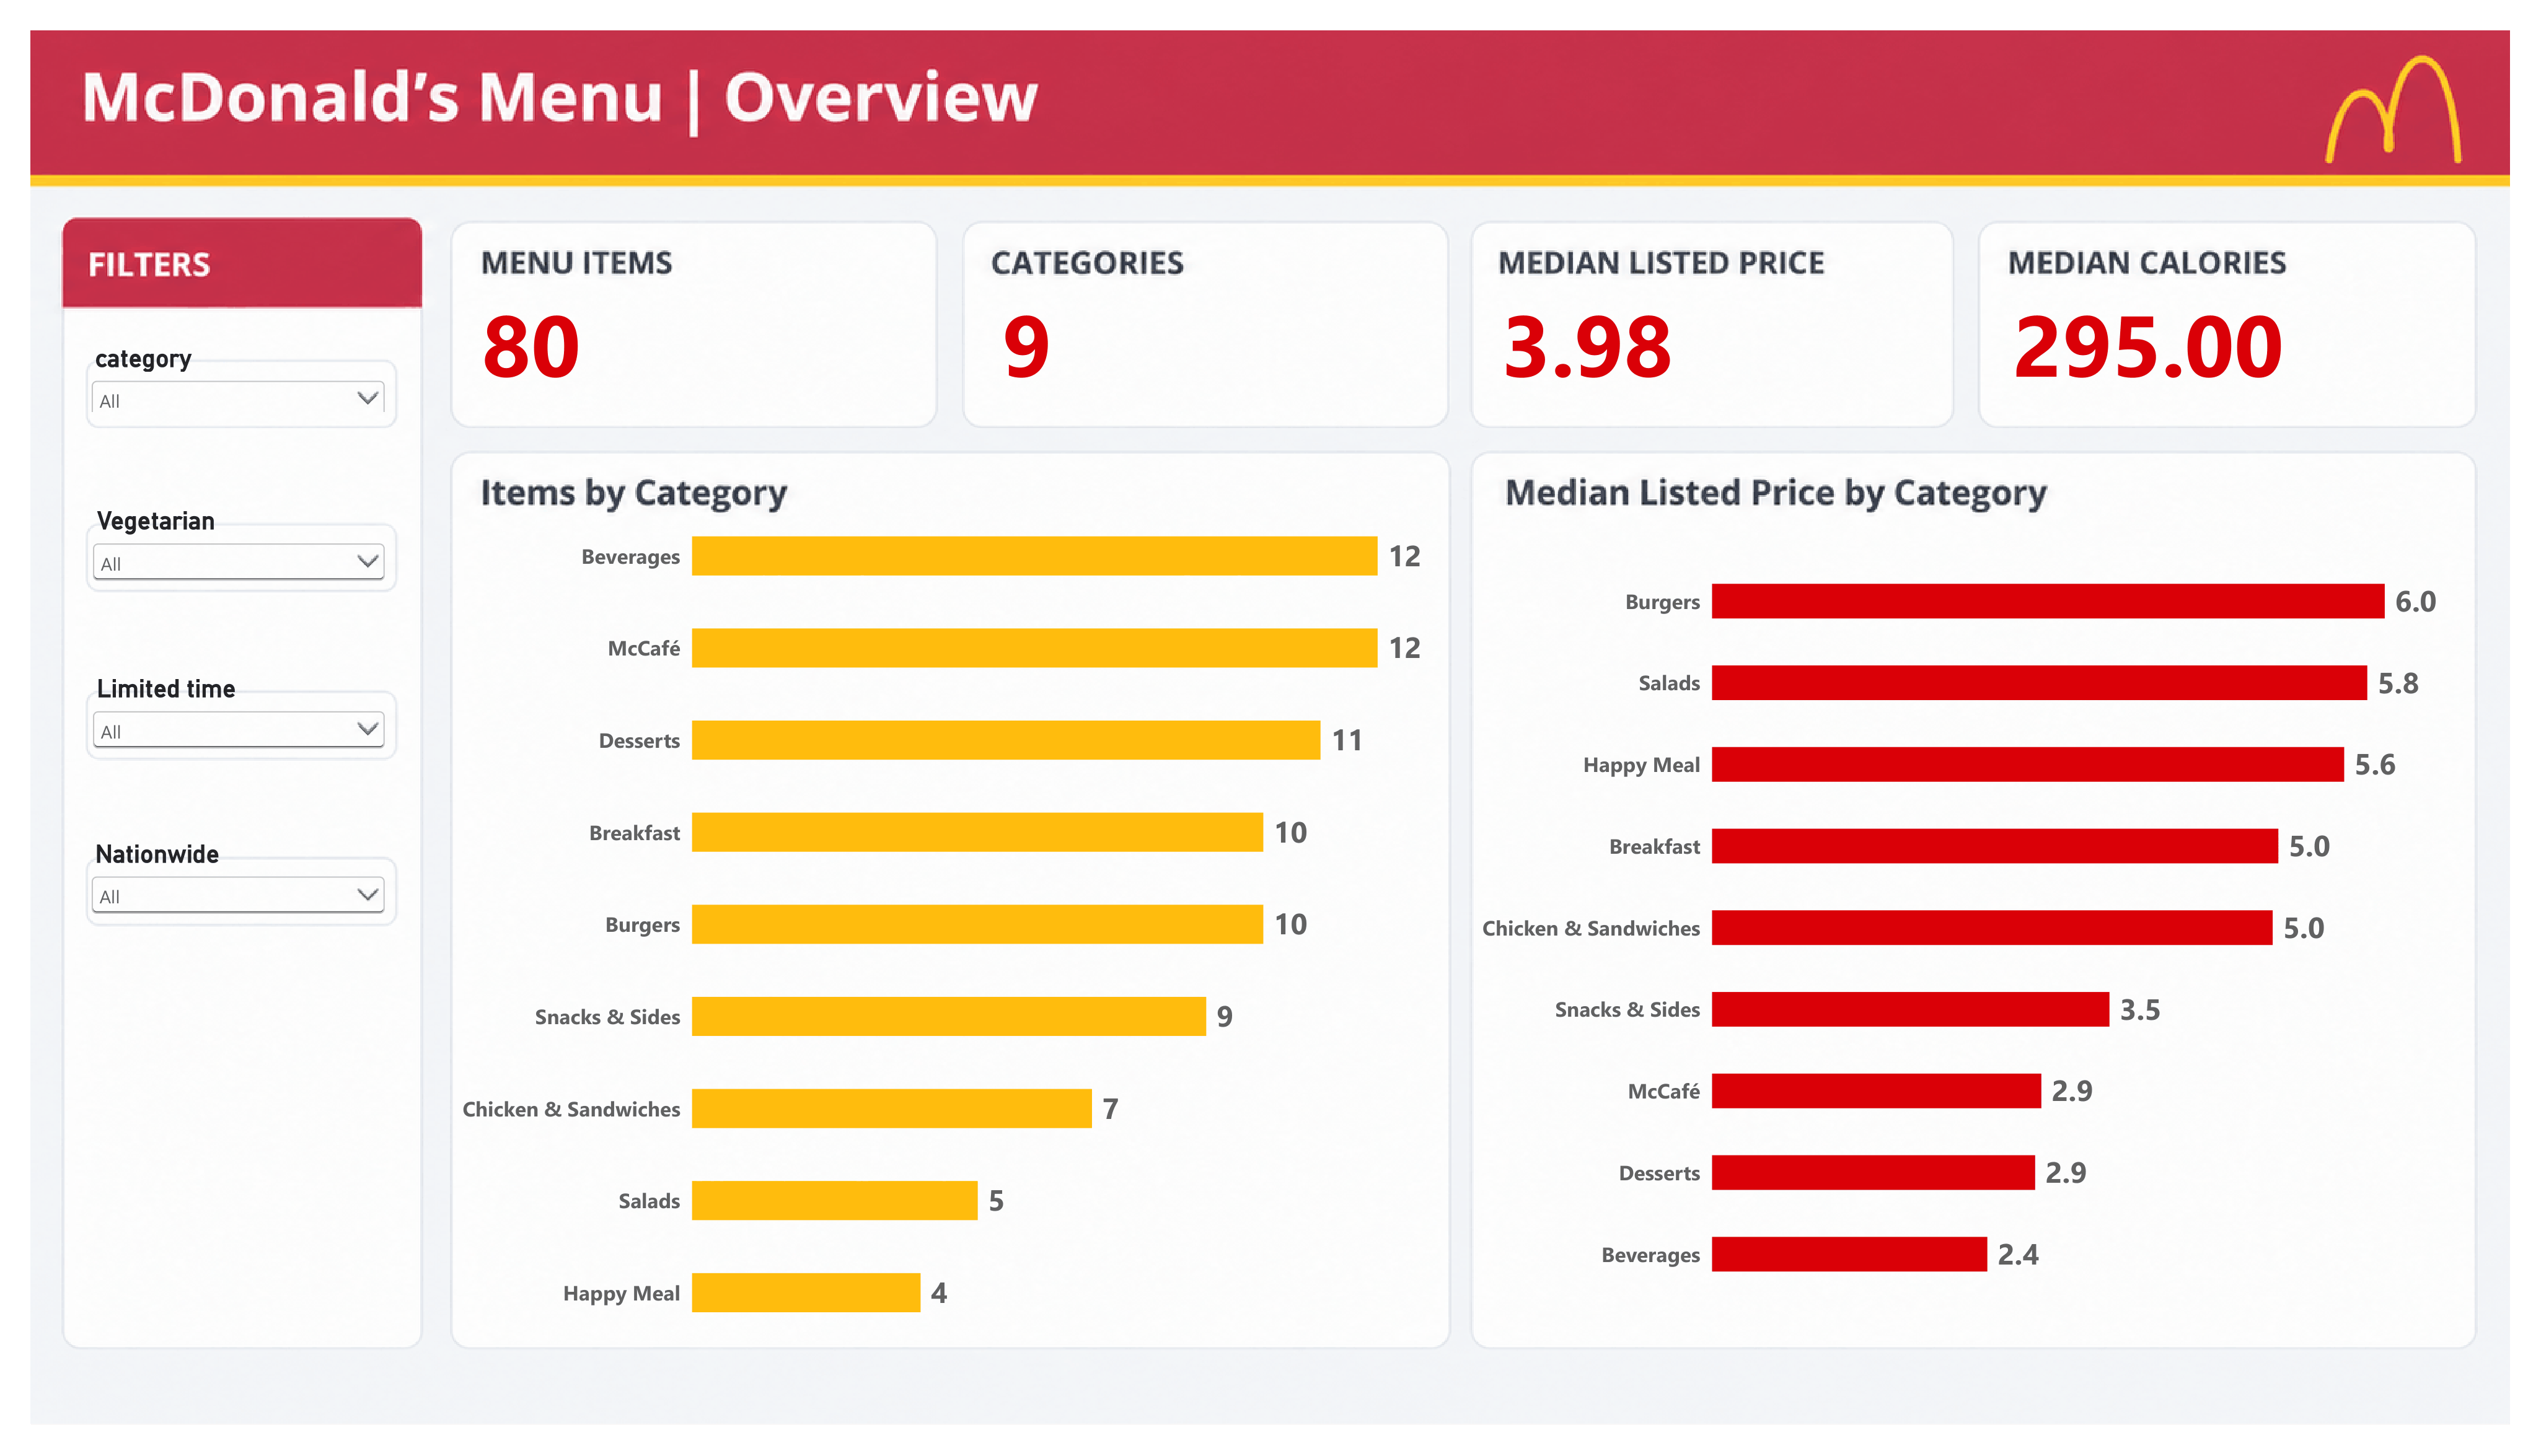

What the dashboard file says about the page in this screenshot:
{"tool":"powerbi","page":{"name":"Overview","canvas":[1920,1080],"ordinal":0},"visuals":[{"type":"cardVisual","fields":{"Data":["final_mcdonalds_menu.items"]},"box":[332.8,152.6,242.7,175.2],"z":0},{"type":"cardVisual","fields":{"Data":["final_mcdonalds_menu.Categories"]},"box":[735.6,152.6,242.7,175.2],"z":1000},{"type":"cardVisual","fields":{"Data":["final_mcdonalds_menu.Median_Listed_Price"]},"box":[1123.5,152.6,242.7,175.2],"z":2000},{"type":"cardVisual","fields":{"Data":["final_mcdonalds_menu.Median Calories"]},"box":[1518.8,152.6,242.7,175.2],"z":3000},{"type":"clusteredBarChart","fields":{"Category":["final_mcdonalds_menu.category"],"Y":["CountNonNull(final_mcdonalds_menu.category)"]},"box":[332.8,355.3,745.7,668.1],"z":4000},{"type":"clusteredBarChart","fields":{"Y":["Median(final_mcdonalds_menu.price_usd)"],"Category":["final_mcdonalds_menu.category"]},"box":[1123.5,395.3,740.6,593],"z":5000},{"type":"slicer","fields":{"Values":["final_mcdonalds_menu.category"]},"box":[41.8,242.4,237.1,52.9],"z":6000},{"type":"slicer","fields":{"Values":["final_mcdonalds_menu.is_vegetarian"]},"box":[42.5,368.3,236.2,61.3],"z":6001},{"type":"slicer","fields":{"Values":["final_mcdonalds_menu.is_limited_time"]},"box":[42.9,497.9,236.2,61.3],"z":6002},{"type":"slicer","fields":{"Values":["final_mcdonalds_menu.is_nationwide"]},"box":[42.1,626.4,236.4,61.4],"z":6003}]}

Visuals, with their boxes on the page's 1920x1080 design canvas (x1, y1, x2, y2). These are canvas units, not pixel positions in the 2541x1456 screenshot, which may show the page scaled, cropped or inside an application window:
cardVisual - final_mcdonalds_menu.items: 333, 153, 576, 328
cardVisual - final_mcdonalds_menu.Categories: 736, 153, 978, 328
cardVisual - final_mcdonalds_menu.Median_Listed_Price: 1124, 153, 1366, 328
cardVisual - final_mcdonalds_menu.Median Calories: 1519, 153, 1762, 328
clusteredBarChart - final_mcdonalds_menu.category x CountNonNull(final_mcdonalds_menu.category): 333, 355, 1078, 1023
clusteredBarChart - Median(final_mcdonalds_menu.price_usd) x final_mcdonalds_menu.category: 1124, 395, 1864, 988
slicer - final_mcdonalds_menu.category: 42, 242, 279, 295
slicer - final_mcdonalds_menu.is_vegetarian: 42, 368, 279, 430
slicer - final_mcdonalds_menu.is_limited_time: 43, 498, 279, 559
slicer - final_mcdonalds_menu.is_nationwide: 42, 626, 278, 688
